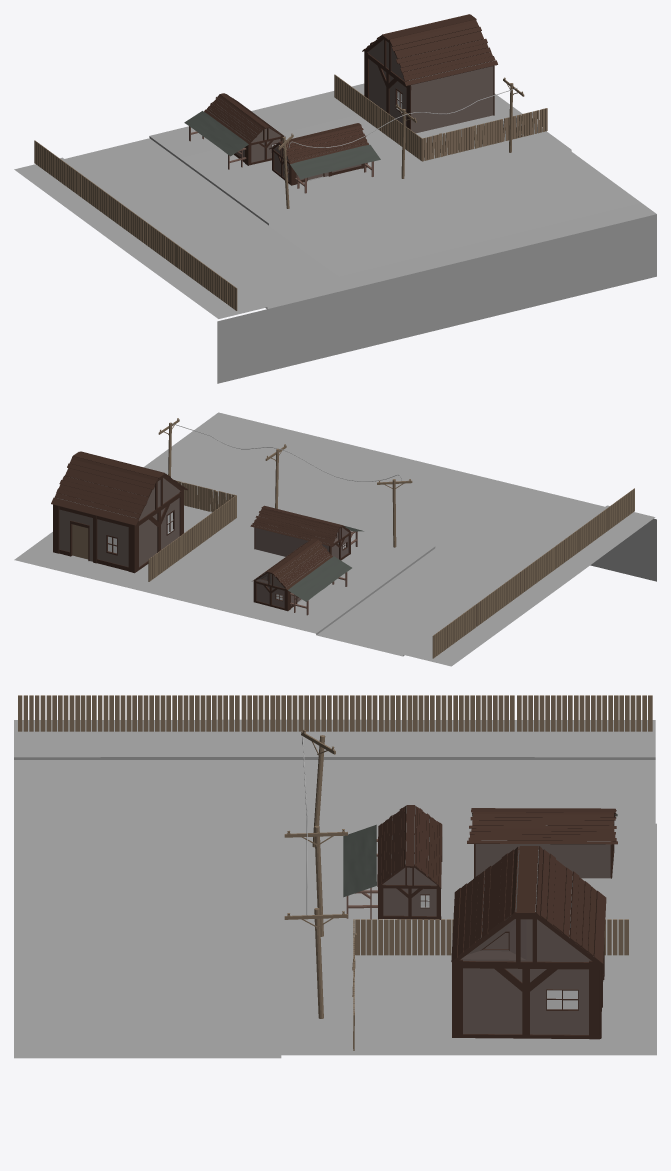
File: citylevel7.fbx
The picture shows the model from 3 angles, top to bottom: view 1: azimuth 30°, elevation 25°; view 2: azimuth 150°, elevation 25°; view 3: azimuth 270°, elevation 25°; orthographic projection. The views are drawn at different scales.
Parts seen in each view (by area): view 1: pPlane1, pasted__pasted__pasted__pCube53 (×2), pasted__pasted__pasted__pPlane6 (×2), pasted__pasted__pasted__pCube18, pasted__pasted__pasted__pCube64; view 2: pPlane1, pasted__pasted__pasted__pCube53 (×3), pasted__pasted__pasted__pPlane6, pasted__pasted__pasted__pCube60, pasted__pasted__pasted__pCube54, pasted__pasted__pasted__pCube64, pasted__pasted__pasted__pCube61, pasted__pasted__pasted__pCube58, pasted__pasted__pasted__pCube56, pasted__pasted__pasted__pCube62, pasted__pasted__pasted__pCube55, pasted__pasted__pasted__pCube59 (+2 smaller); view 3: pPlane1, pasted__pasted__pasted__pCube53 (×3), pasted__pasted__pasted__pPlane6, pasted__pasted__pasted__pCube18 (×2), pasted__pasted__pasted__pCube64, pasted__pasted__pasted__group2_pCube11, pasted__pasted__pasted__group2_pCube12, pasted__pasted__pasted__pCube36, pasted__pasted__pasted__pCube34, pasted__pasted__pasted__pCube35, pasted__pasted__pasted__pCube60, pasted__pasted__pasted__group2_pCube13 (+1 smaller).
Part boxes in pixels (x1,y1,x2,y2): pPlane1: (14, 83, 656, 383); pasted__pasted__pasted__pCube53 (×2): (207, 39, 493, 162); pasted__pasted__pasted__pPlane6 (×2): (184, 111, 380, 179); pasted__pasted__pasted__pCube18: (394, 31, 483, 58); pasted__pasted__pasted__pCube64: (382, 14, 476, 39); pPlane1: (14, 412, 656, 666); pasted__pasted__pasted__pCube53 (×3): (57, 478, 348, 607); pasted__pasted__pasted__pPlane6: (288, 556, 351, 601); pasted__pasted__pasted__pCube60: (65, 468, 151, 496); pasted__pasted__pasted__pCube54: (51, 497, 138, 525); pasted__pasted__pasted__pCube64: (73, 451, 164, 478); pasted__pasted__pasted__pCube61: (67, 463, 155, 489); pasted__pasted__pasted__pCube58: (59, 480, 147, 505); pasted__pasted__pasted__pCube56: (56, 488, 142, 514); pasted__pasted__pasted__pCube62: (69, 459, 156, 485); pasted__pasted__pasted__pCube55: (55, 493, 140, 518); pasted__pasted__pasted__pCube59: (62, 475, 148, 501); pPlane1: (14, 719, 656, 1058); pasted__pasted__pasted__pCube53 (×3): (383, 807, 610, 1034); pasted__pasted__pasted__pPlane6: (343, 824, 376, 897); pasted__pasted__pasted__pCube18 (×2): (472, 820, 613, 932); pasted__pasted__pasted__pCube64: (516, 846, 538, 913); pasted__pasted__pasted__group2_pCube11: (284, 908, 347, 1018); pasted__pasted__pasted__group2_pCube12: (284, 825, 347, 936); pasted__pasted__pasted__pCube36: (463, 961, 599, 969); pasted__pasted__pasted__pCube34: (589, 960, 599, 1039); pasted__pasted__pasted__pCube35: (452, 959, 462, 1037); pasted__pasted__pasted__pCube60: (552, 860, 566, 932); pasted__pasted__pasted__group2_pCube13: (301, 729, 335, 847).
Size of the model in its own units: 172 by 54.4 by 139.
